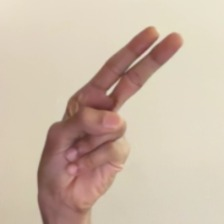H: (25, 21, 191, 212)
